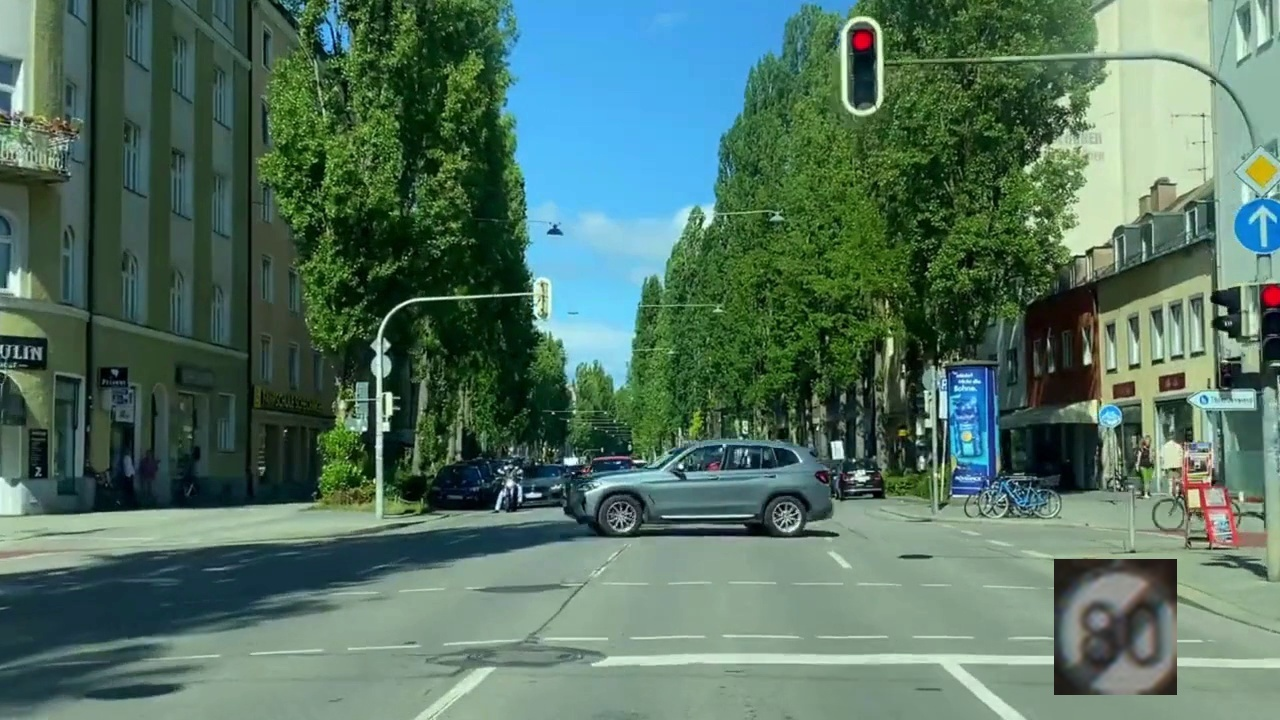End Speed 80: (1054, 559, 1177, 695)
